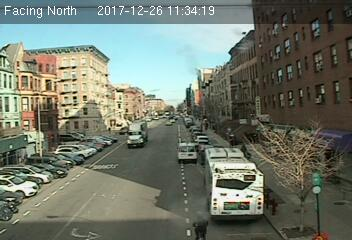bus: (201, 147, 263, 220)
truck: (126, 121, 147, 148), (177, 141, 199, 162)
